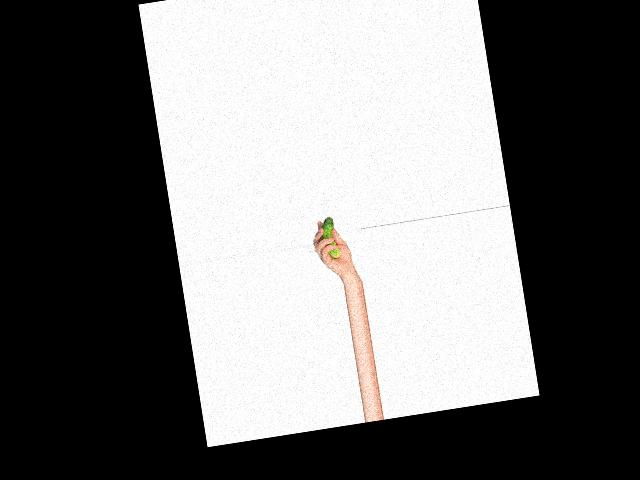cucumber: (318, 216, 340, 259)
